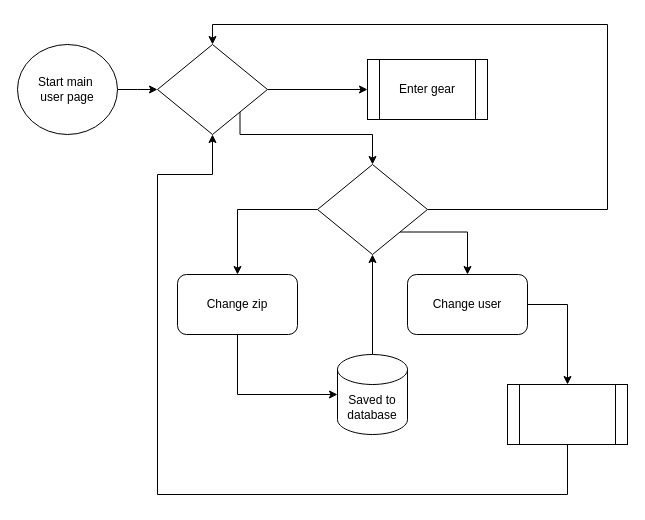
This 645x520 diagram has some shape labels left out. The centre of each missing label's shape, as x and y in pixels:
New user page: point (567, 414)
User is on main page: point (212, 89)
User opens settings: point (372, 209)
